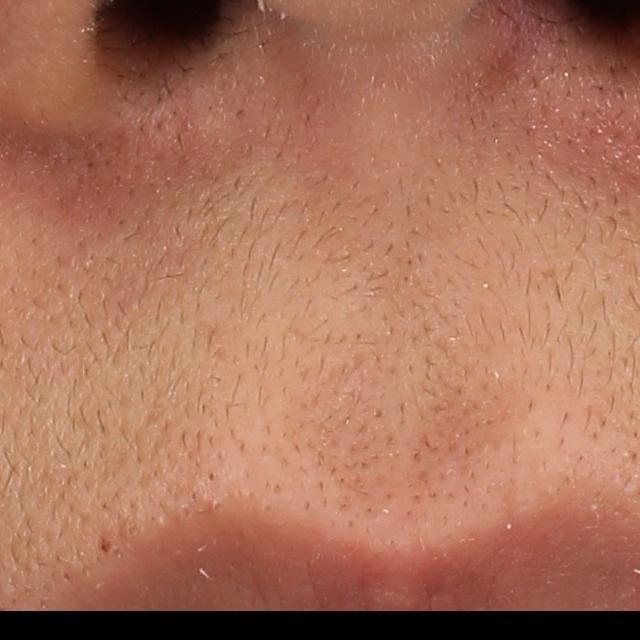nevus: (96, 529, 115, 553)
